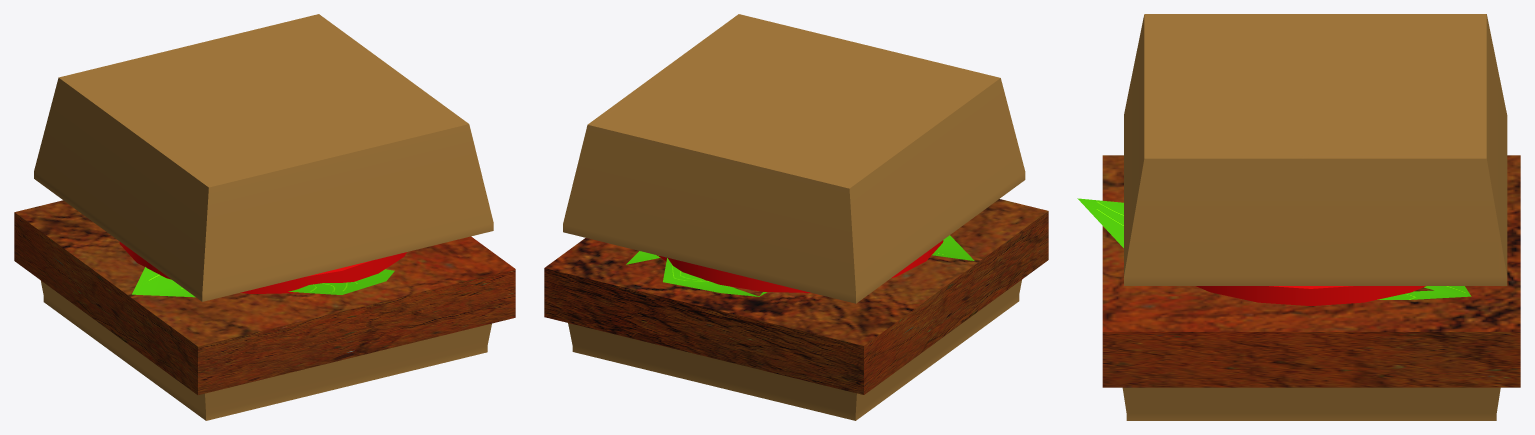
Rendered from hamburguesa.fbx.
3 renders of one model, left to right at view 1: azimuth 30°, elevation 25°; view 2: azimuth 150°, elevation 25°; view 3: azimuth 270°, elevation 25°, orthographic. The views are drawn at different scales.
Visible parts, largest first — view 1: polySurface60, pCube3, pCube2, polySurface92, pasted__pPlane6; view 2: polySurface60, pCube3, pCube2, polySurface92, pasted__pasted__pPlane6, pasted__pPlane6; view 3: polySurface60, pCube3, pCube2, polySurface92, pasted__pPlane6, pasted__pasted__pPlane6.
Part boxes in pixels (x1=…): polySurface60: x1=34, y1=14, x2=493, y2=301; pCube3: x1=14, y1=200, x2=515, y2=394; pCube2: x1=40, y1=280, x2=491, y2=420; polySurface92: x1=119, y1=242, x2=406, y2=293; pasted__pPlane6: x1=132, y1=267, x2=394, y2=297; polySurface60: x1=563, y1=14, x2=1025, y2=303; pCube3: x1=544, y1=199, x2=1048, y2=394; pCube2: x1=568, y1=280, x2=1021, y2=420; polySurface92: x1=657, y1=240, x2=943, y2=292; pasted__pasted__pPlane6: x1=626, y1=251, x2=767, y2=296; pasted__pPlane6: x1=931, y1=235, x2=974, y2=260; polySurface60: x1=1124, y1=14, x2=1507, y2=285; pCube3: x1=1102, y1=155, x2=1520, y2=387; pCube2: x1=1122, y1=387, x2=1500, y2=420; polySurface92: x1=1196, y1=286, x2=1425, y2=305; pasted__pPlane6: x1=1077, y1=198, x2=1123, y2=247; pasted__pasted__pPlane6: x1=1377, y1=286, x2=1471, y2=299.
Bounding box in the file's own units: 4.38 × 2.96 × 4.64.
